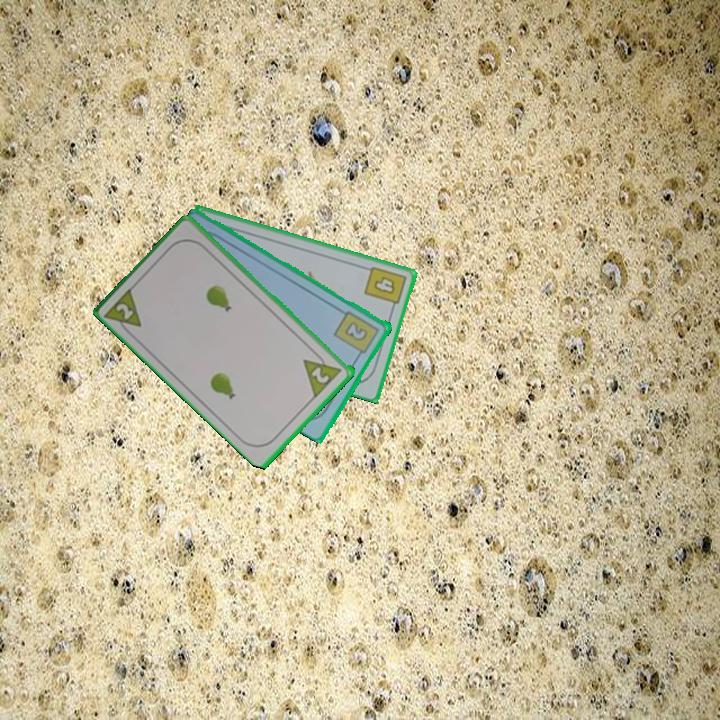2b: (331, 307, 383, 361)
2p: (102, 283, 145, 340), (300, 346, 345, 400)
4b: (361, 263, 409, 313)
